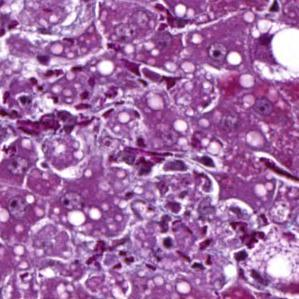ballooning: (244, 219, 298, 289), (244, 18, 297, 83)
